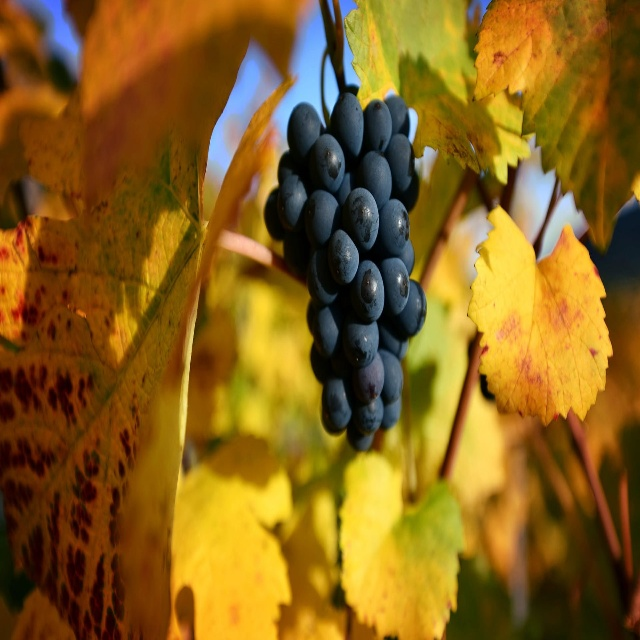grape: (261, 78, 429, 459)
